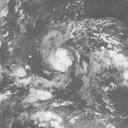cyclone: (38, 35, 81, 71)
